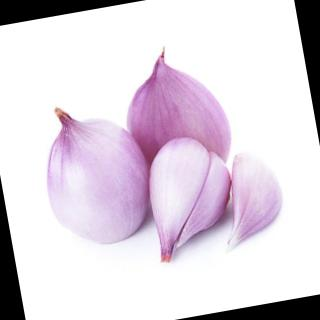Bawang Merah: (31, 91, 163, 257), (138, 129, 246, 273)
